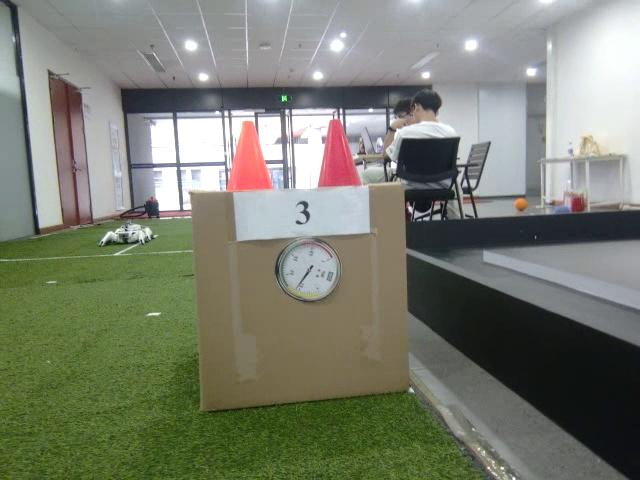3: (294, 200, 312, 224)
Dashboard: (274, 238, 342, 304)
orange_barrel: (227, 122, 271, 192)
red_barrel: (316, 118, 362, 188)
ssi: (327, 269, 335, 283)
